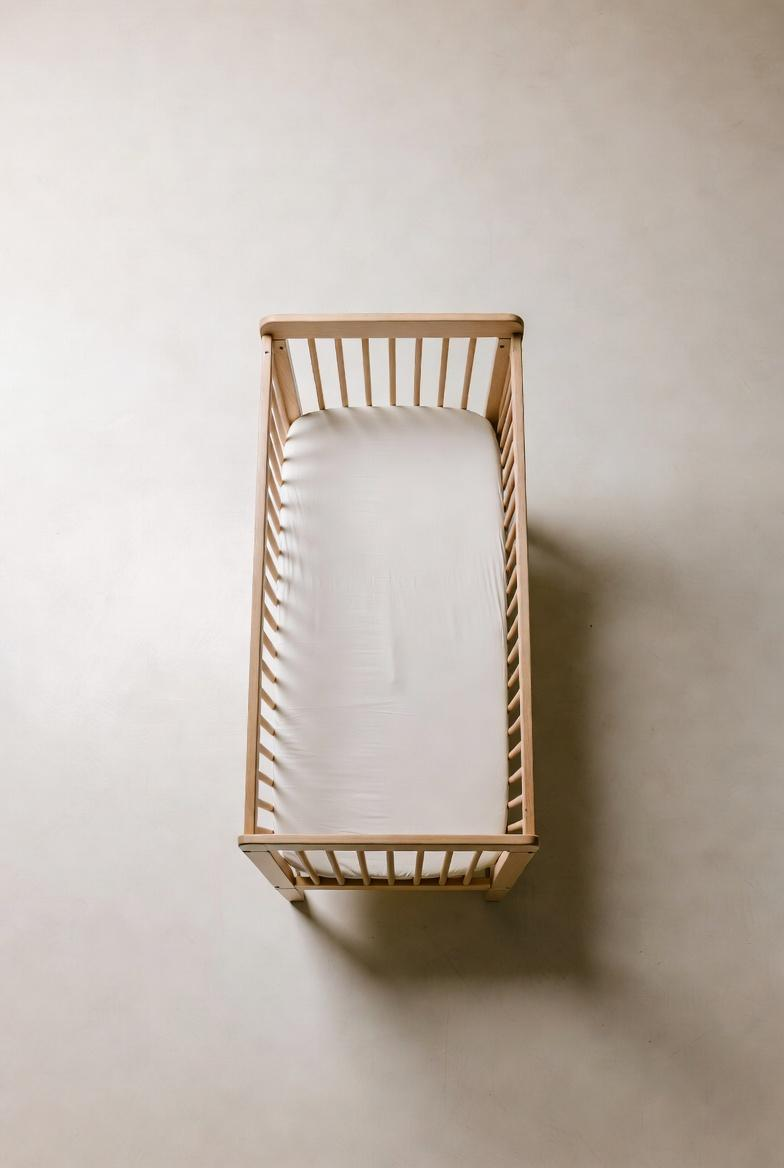crib: (239, 314, 538, 901)
